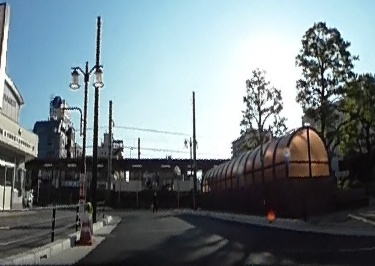person: (150, 190, 159, 212)
